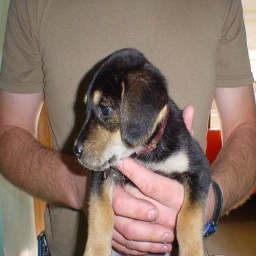dog: (71, 48, 210, 256)
